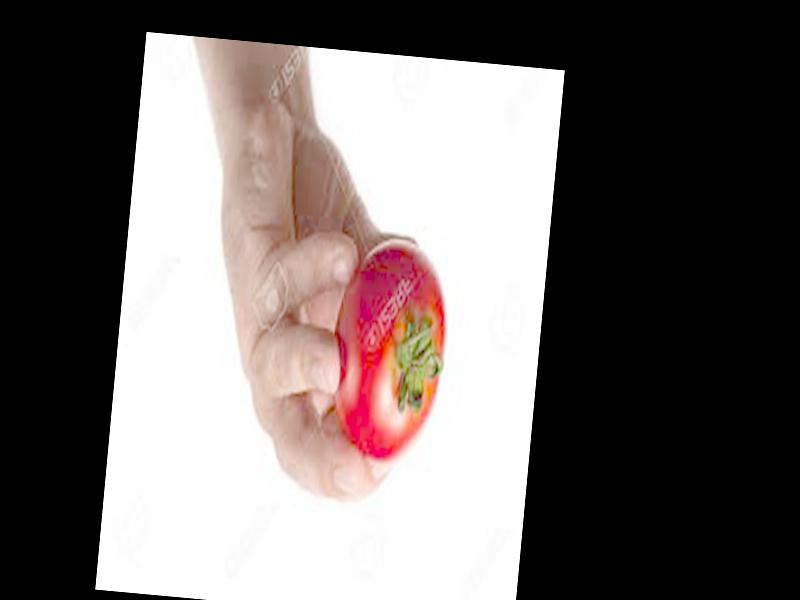Tomato: (325, 237, 454, 466)
